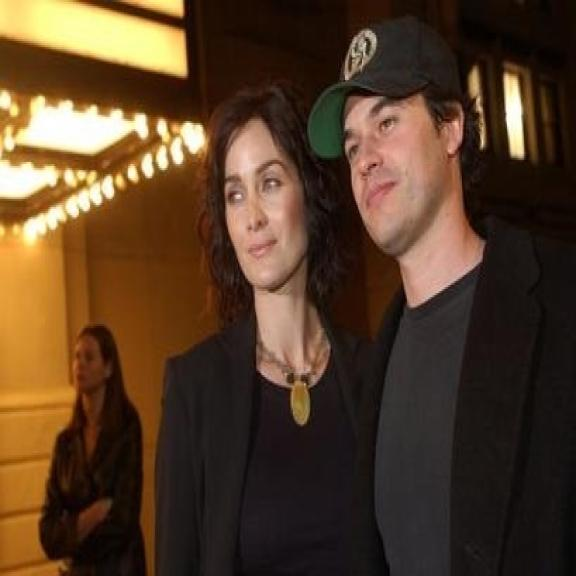face: (327, 70, 466, 260), (208, 106, 318, 304), (72, 329, 116, 398)
